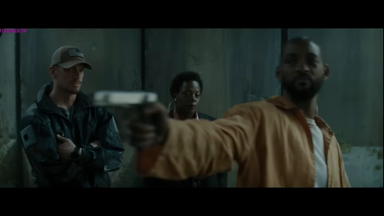firearm: (90, 88, 165, 136)
